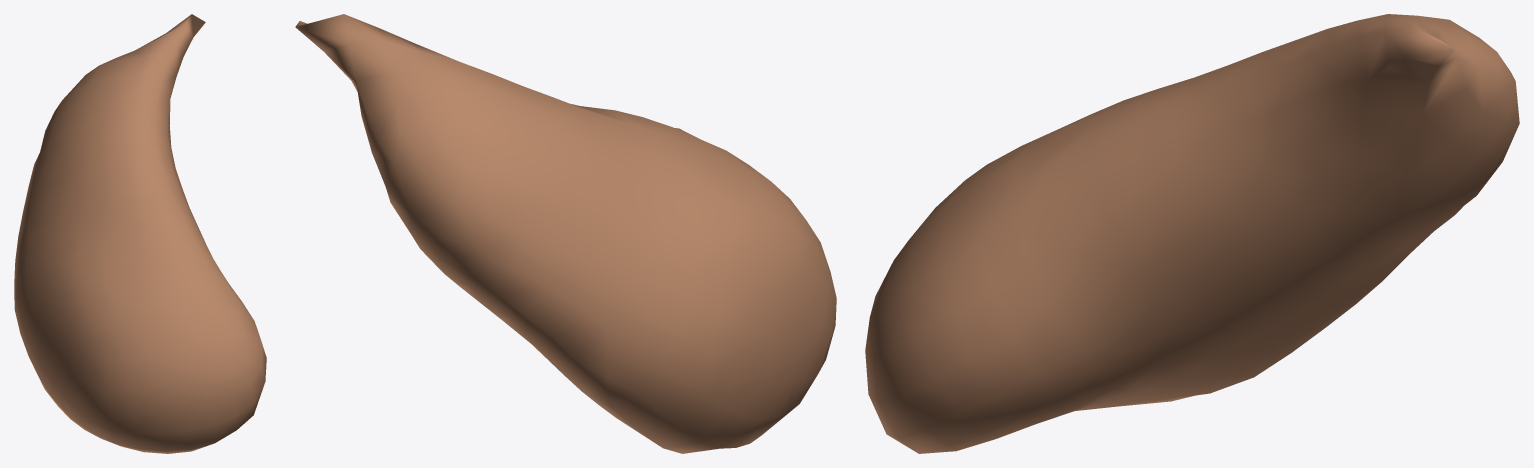
File: gallbladder.glb
3 views of the same model, side by side, from view 1: azimuth 30°, elevation 25°; view 2: azimuth 150°, elevation 25°; view 3: azimuth 270°, elevation 25° (orthographic). The views are drawn at different scales.
Visible parts, largest first — view 1: gallbladder; view 2: gallbladder; view 3: gallbladder.
Boxes of the visible parts, left/top/right/bottom form: gallbladder: left=14, top=14, right=266, bottom=453; gallbladder: left=295, top=14, right=836, bottom=453; gallbladder: left=865, top=14, right=1519, bottom=453.
Size of the model in its own units: 0.0362 by 0.0435 by 0.0483.
